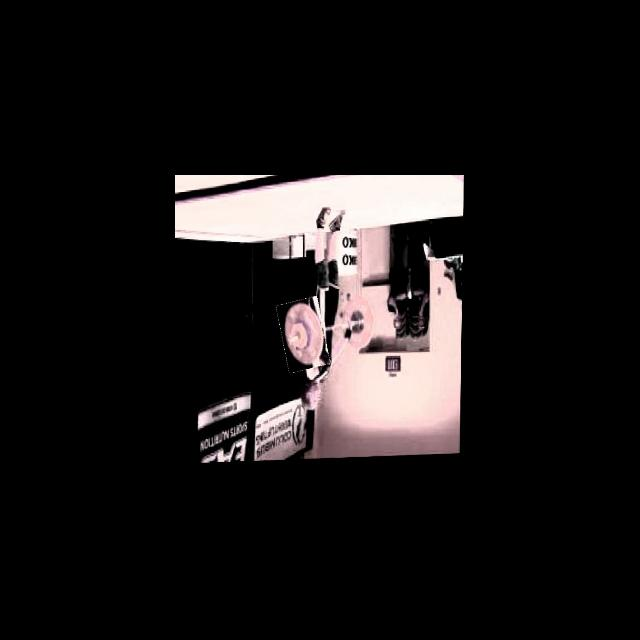barbell: (279, 298, 328, 373)
